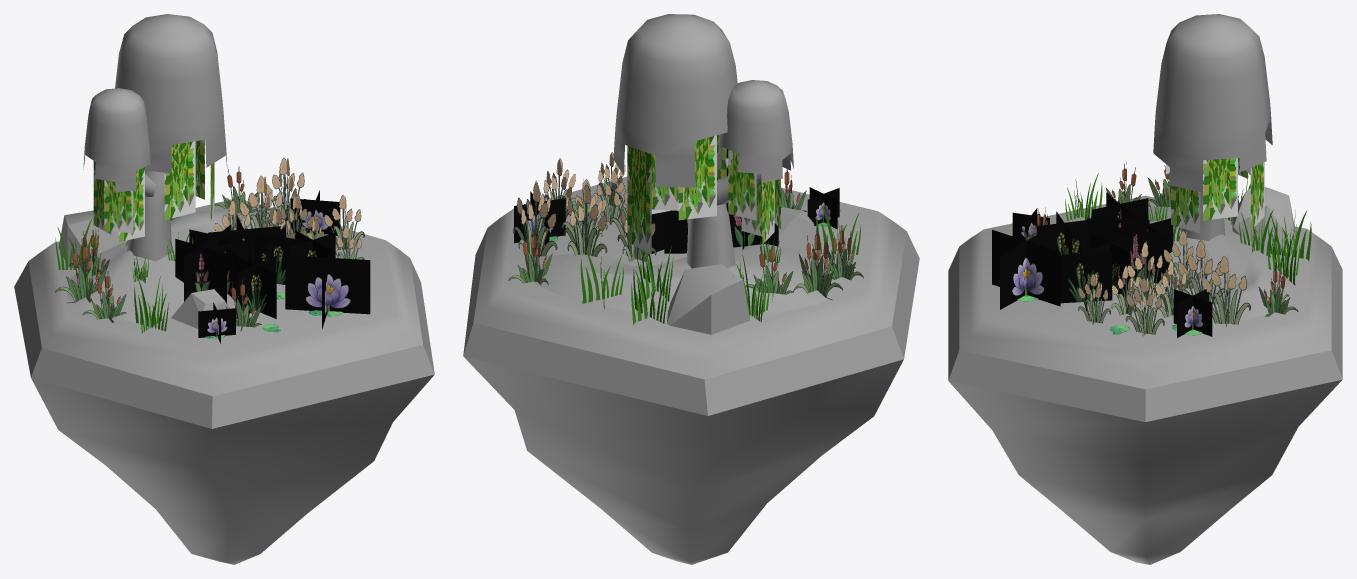
The model's file is Advanced_Wetland.fbx.
The picture shows the model from 3 angles, left to right: view 1: azimuth 30°, elevation 25°; view 2: azimuth 150°, elevation 25°; view 3: azimuth 270°, elevation 25°; orthographic projection. The views are drawn at different scales.
Parts seen in each view (by area): view 1: Advanced_Wetland_mod; view 2: Advanced_Wetland_mod; view 3: Advanced_Wetland_mod.
Part boxes in pixels (x1,y1,x2,y2): Advanced_Wetland_mod: (14,14,434,564); Advanced_Wetland_mod: (463,14,919,564); Advanced_Wetland_mod: (948,14,1342,564).
Size of the model in its own units: 11.53 by 14.79 by 9.99.
